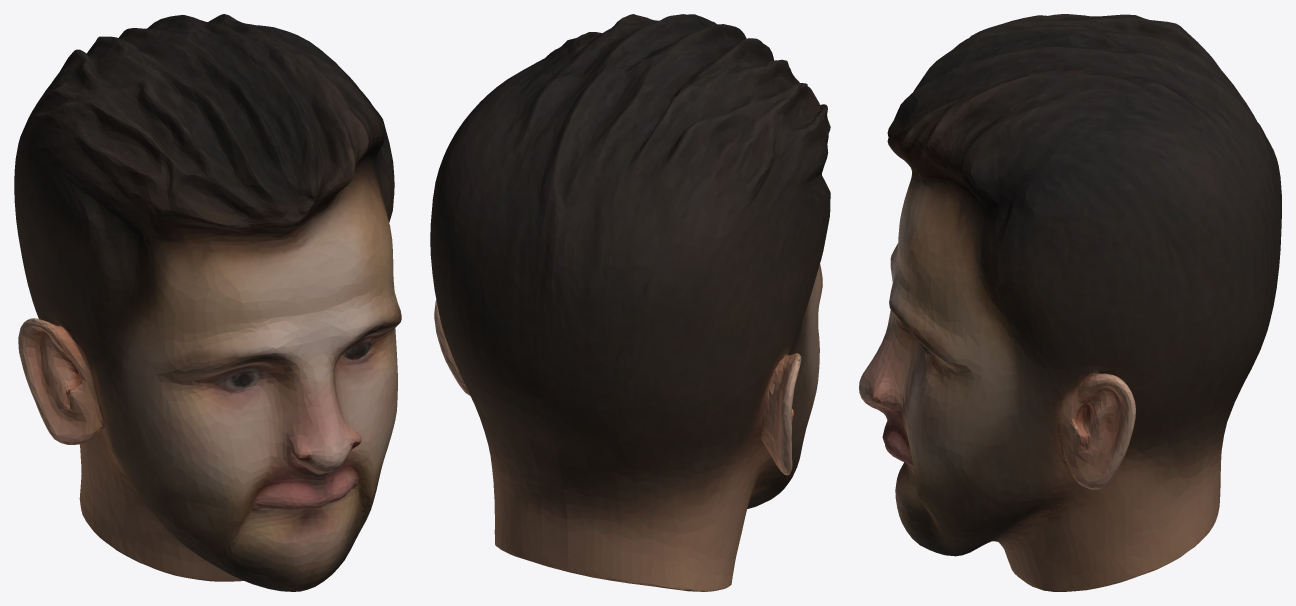
The model's file is head-operator.glb.
3 views of the same model, side by side, from view 1: azimuth 30°, elevation 25°; view 2: azimuth 150°, elevation 25°; view 3: azimuth 270°, elevation 25° (orthographic). The views are drawn at different scales.
Visible parts, largest first — view 1: geometry_0; view 2: geometry_0; view 3: geometry_0.
Boxes of the visible parts, x1,y1,x2,y2 form: geometry_0: (14,14,401,591); geometry_0: (430,14,830,591); geometry_0: (859,14,1281,591).
Size of the model in its own units: 0.6969 by 0.9971 by 0.7375.
1 material, 1 textured.
